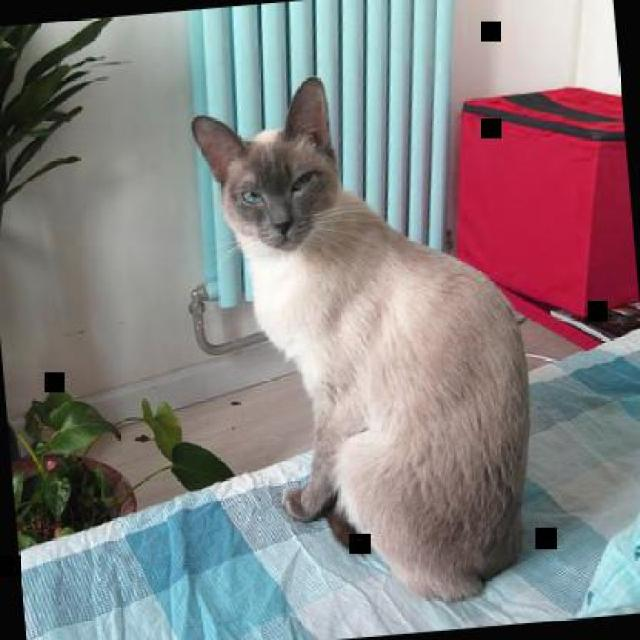cat: (186, 59, 548, 622)
